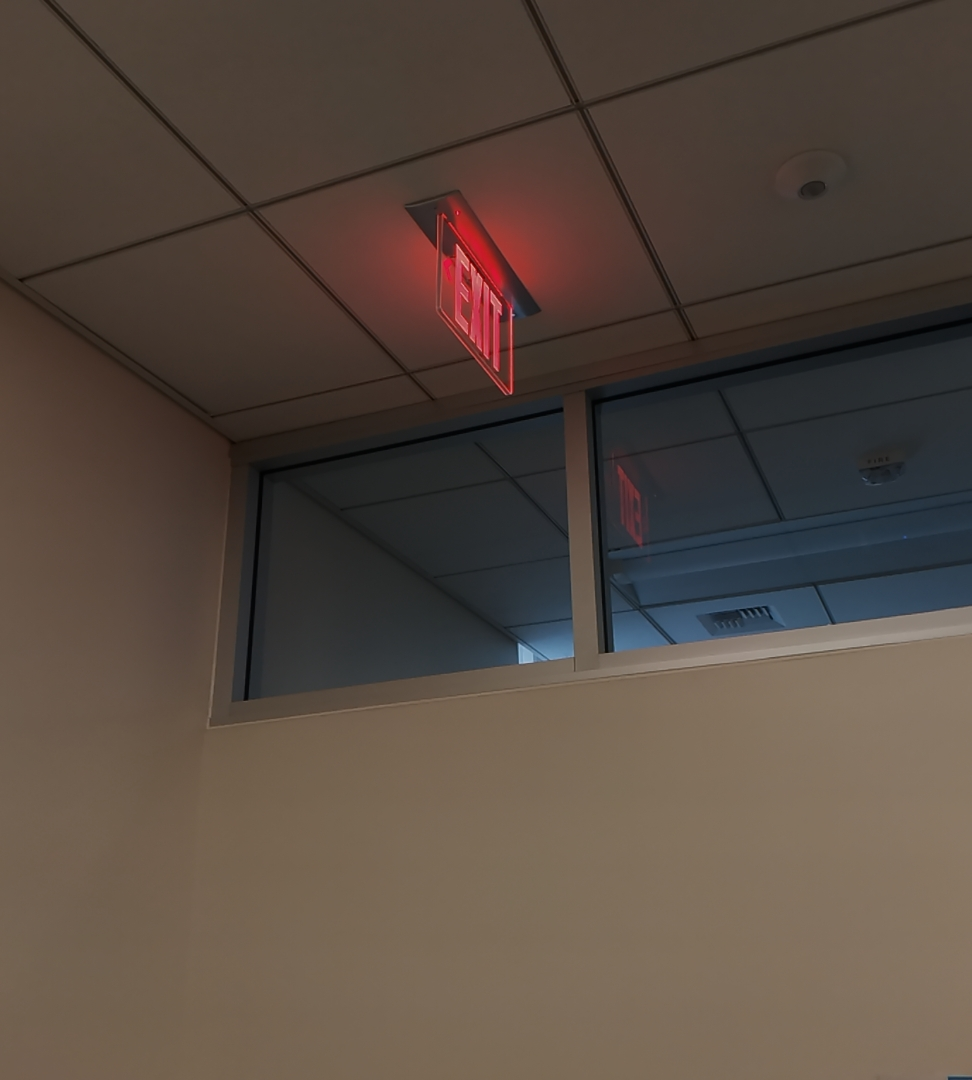emergency_exit: (403, 188, 541, 398), (433, 212, 516, 396), (613, 460, 649, 548)
